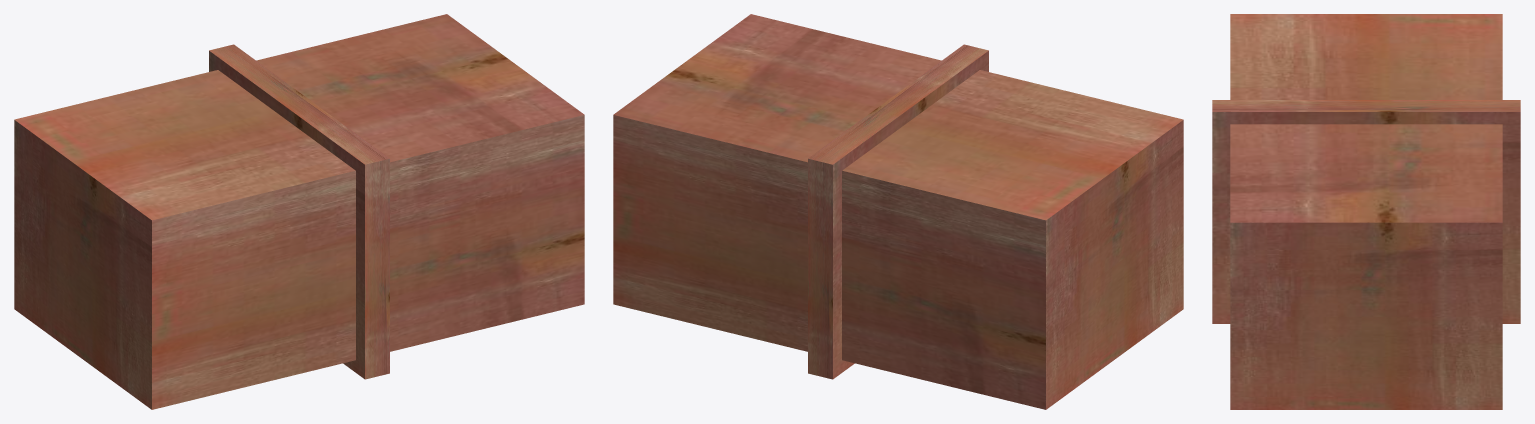
Rendered from canos.fbx.
3 renders of one model, left to right at view 1: azimuth 30°, elevation 25°; view 2: azimuth 150°, elevation 25°; view 3: azimuth 270°, elevation 25°, orthographic.
Parts seen in each view (by area): view 1: pCube470, pCube501; view 2: pCube470, pCube501; view 3: pCube470, pCube501.
Boxes of the visible parts, left/top/right/bottom form: pCube470: left=14, top=14, right=584, bottom=409; pCube501: left=209, top=44, right=389, bottom=379; pCube470: left=613, top=14, right=1183, bottom=409; pCube501: left=808, top=44, right=988, bottom=379; pCube470: left=1230, top=14, right=1502, bottom=409; pCube501: left=1212, top=100, right=1520, bottom=323.
Size of the model in its own units: 6.5 by 3.08 by 4.06.
